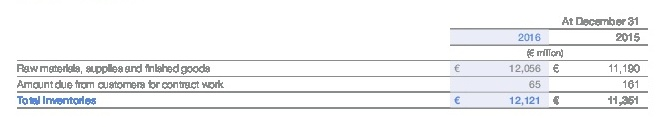table: (0, 0, 661, 127)
